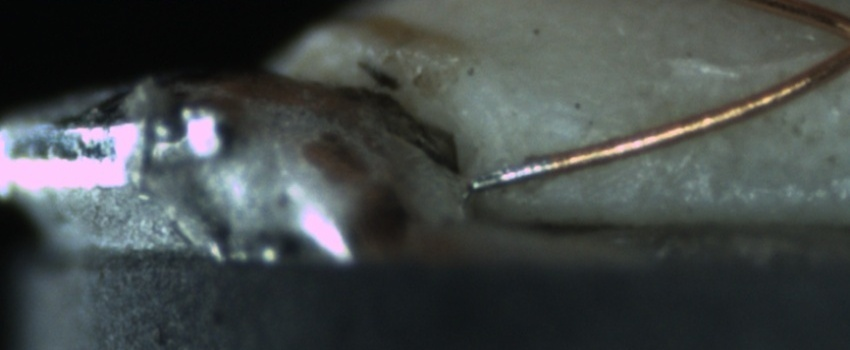TS: (464, 159, 554, 193)
